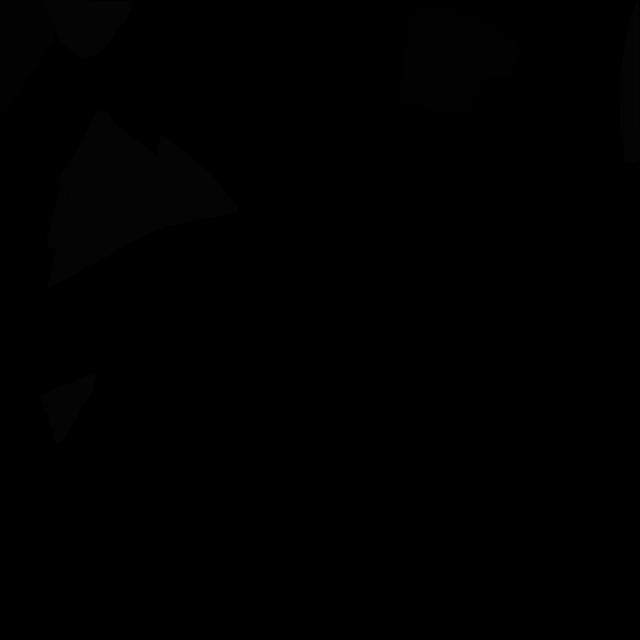rigid_plastic: (398, 3, 518, 116)
soft_plastic: (47, 111, 238, 259), (46, 187, 102, 290), (43, 0, 134, 58), (40, 372, 96, 444), (619, 0, 640, 163)
